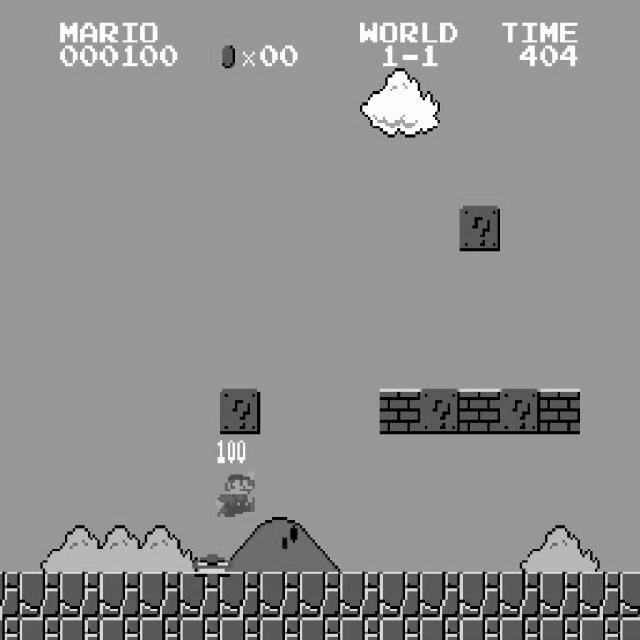1- brick_block: (380, 388, 420, 434), (460, 388, 500, 434), (540, 388, 580, 434)
11- little_mario: (212, 468, 255, 517)
13- mystery_block: (220, 388, 260, 434), (420, 388, 460, 434), (500, 388, 540, 434), (460, 206, 500, 251)
17- undestructible_block: (20, 572, 60, 618), (60, 572, 100, 618), (100, 572, 140, 618), (140, 572, 180, 618), (180, 572, 220, 618), (220, 572, 260, 618), (260, 572, 300, 618), (300, 572, 340, 618), (340, 572, 380, 618), (380, 572, 420, 618), (420, 572, 460, 618), (460, 572, 500, 618), (500, 572, 540, 618), (540, 572, 580, 618), (580, 572, 620, 618), (0, 572, 20, 618), (620, 572, 640, 618), (20, 617, 60, 640), (60, 617, 100, 640), (100, 617, 140, 640), (140, 617, 180, 640), (180, 617, 220, 640), (220, 617, 260, 640), (260, 617, 300, 640), (300, 617, 340, 640), (340, 617, 380, 640), (380, 617, 420, 640), (420, 617, 460, 640), (460, 617, 500, 640), (500, 617, 540, 640), (540, 617, 580, 640), (580, 617, 620, 640), (0, 617, 20, 640), (620, 617, 640, 640)
